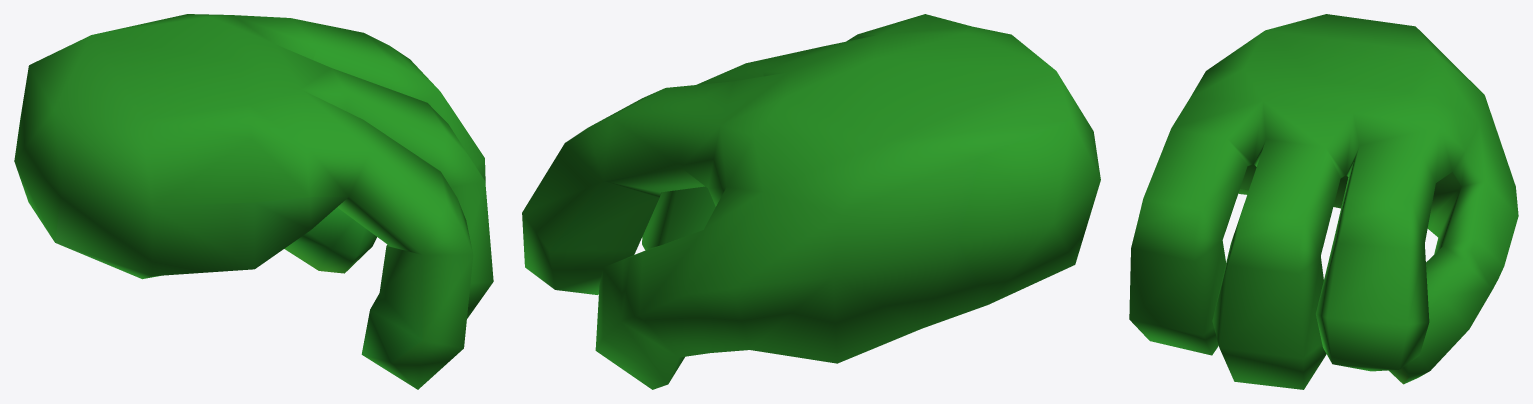
Rendered from YoD_Hand.obj.
3 views of the same model, side by side, from view 1: azimuth 30°, elevation 25°; view 2: azimuth 150°, elevation 25°; view 3: azimuth 270°, elevation 25° (orthographic). The views are drawn at different scales.
Visible parts, largest first — view 1: R_hand; view 2: R_hand; view 3: R_hand.
Part boxes in pixels (x1,y1,x2,y2): R_hand: [14, 14, 493, 389]; R_hand: [522, 14, 1100, 389]; R_hand: [1129, 14, 1518, 389].
Size of the model in its own units: 0.4753 by 0.2852 by 0.4195.
Materials: 1 (1 with a texture image).
